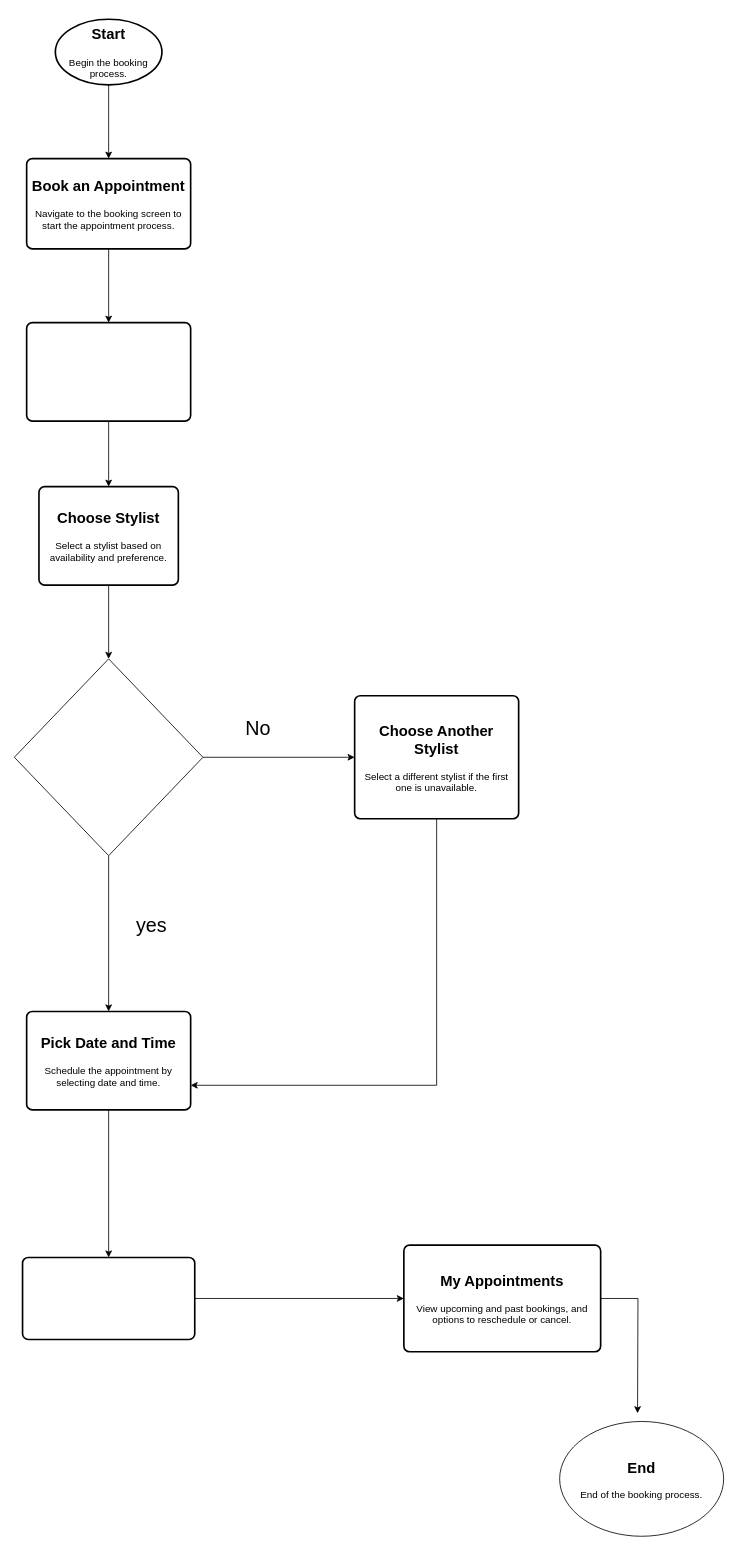
The diagram is 738 pixels wide and 1551 high, and some of its shapes have lost their labels. Here are the shapes that lost their labels. From the top down, the centre of each, then its label:
At point (108, 371): "Select Service Choose a service like haircut, manicure, or facial.".
At point (108, 757): "Stylist Available? Is the chosen stylist available for the selected time?".
At point (108, 1298): "Confirm Booking Review and confirm your booking details".
